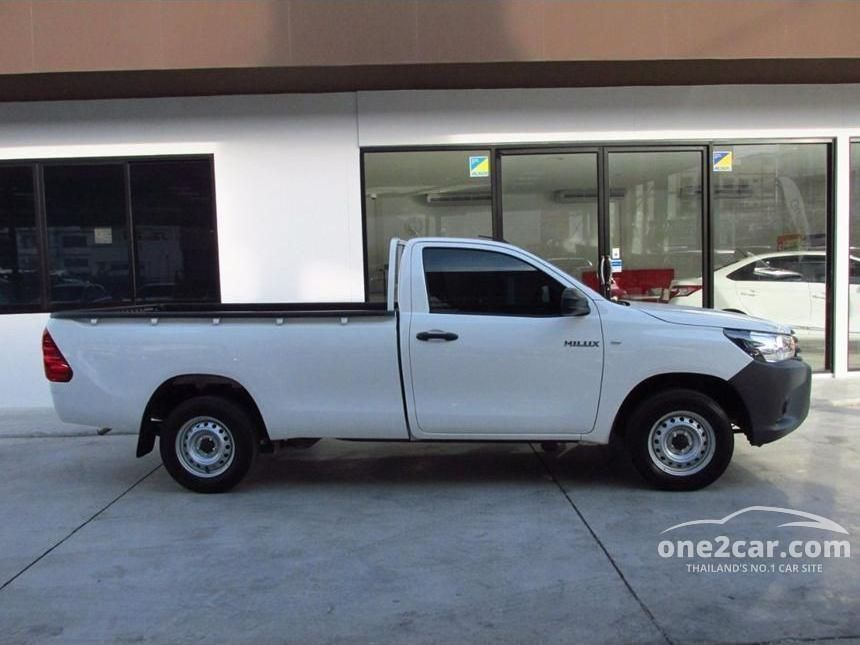pickup: (42, 238, 813, 490)
